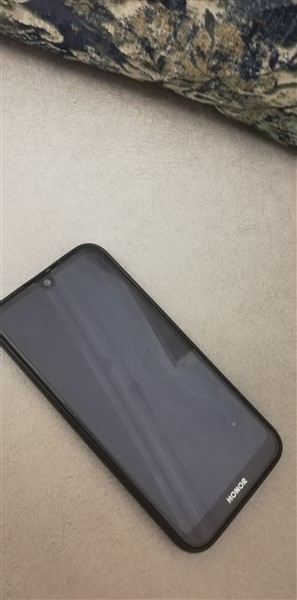telefon: (1, 241, 285, 557)
